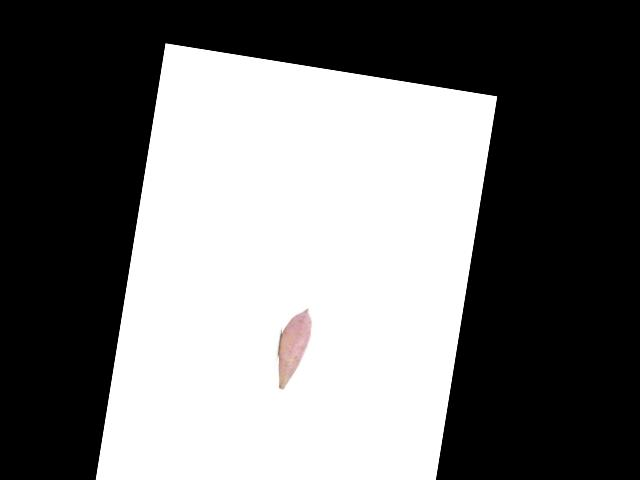sweet_potato: (274, 305, 314, 392)
